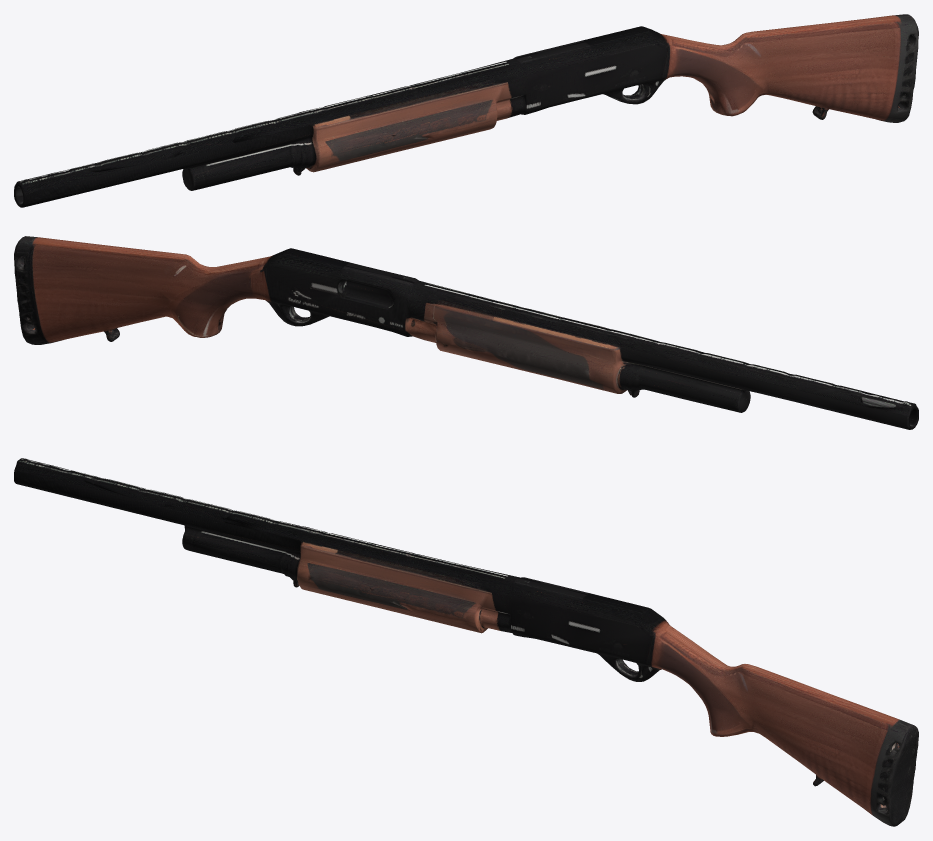
Rendered from Shotgun.fbx.
3 views of the same model, one above another, from view 1: azimuth 30°, elevation 25°; view 2: azimuth 150°, elevation 25°; view 3: azimuth 330°, elevation 25° (orthographic).
Visible parts, largest first — view 1: Mesh_0; view 2: Mesh_0; view 3: Mesh_0.
Boxes of the visible parts, <box> form: Mesh_0: <box>14,14,918,207</box>; Mesh_0: <box>14,236,918,429</box>; Mesh_0: <box>14,458,918,826</box>.
Size of the model in its own units: 191 by 31.54 by 9.02.
Materials: 1 (1 with a texture image).
